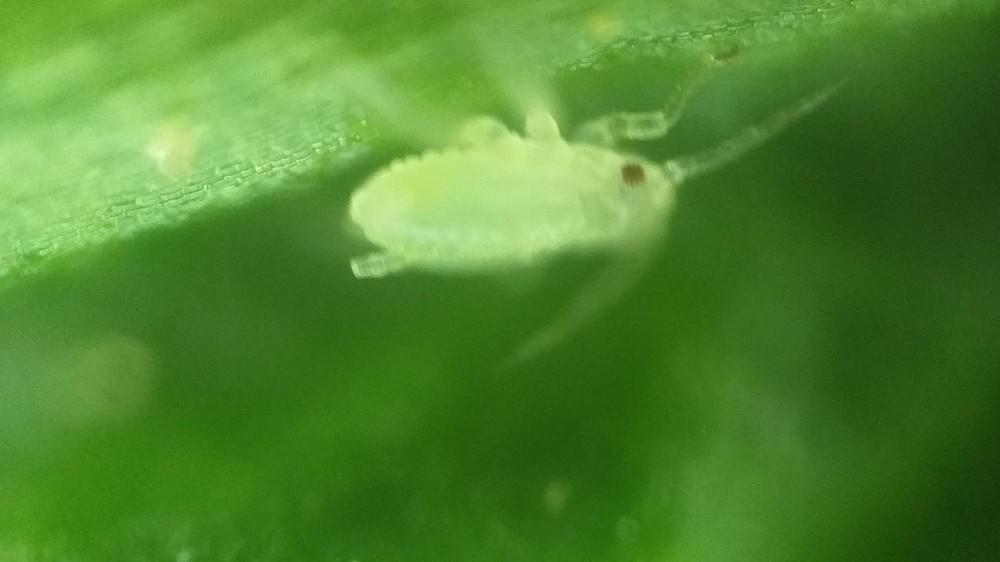Pulgon: (334, 56, 860, 388)
